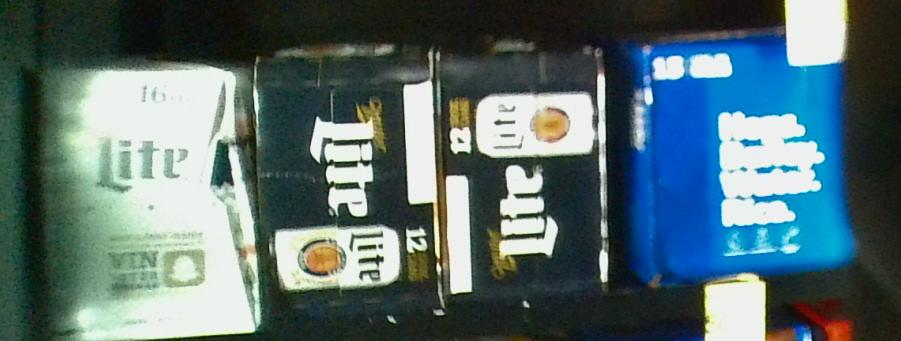bottle: (35, 46, 269, 339), (636, 32, 853, 285), (255, 44, 448, 316), (435, 47, 610, 296)
